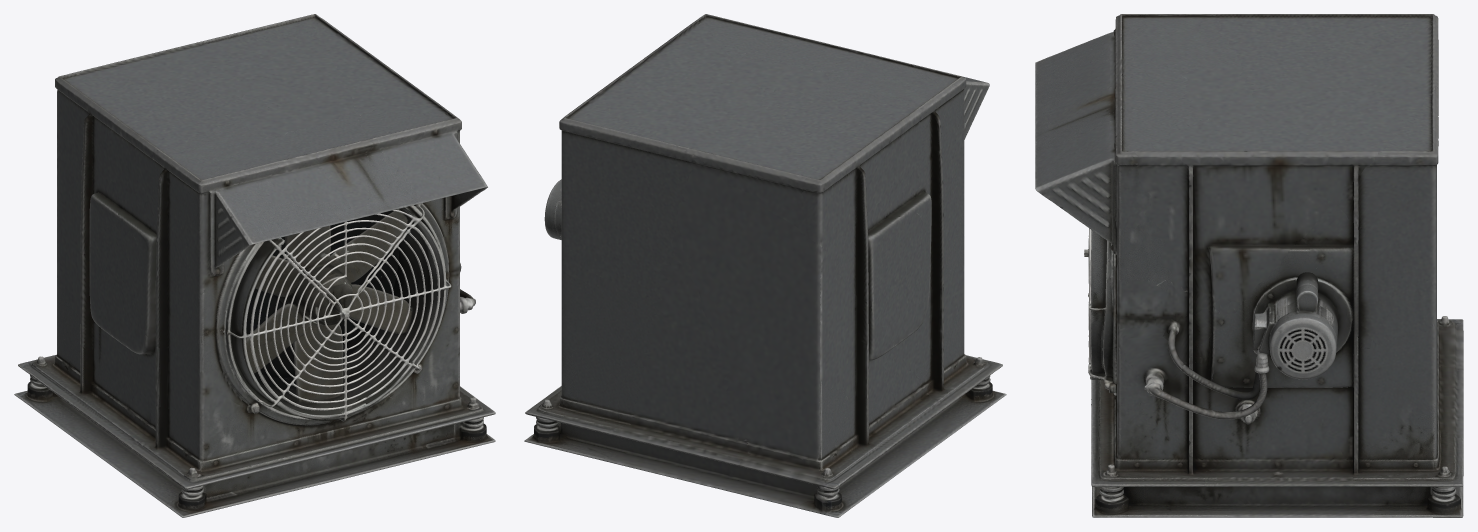
Rendered from industrial_rooftop_exhaust_fan.glb.
The picture shows the model from 3 angles, left to right: view 1: azimuth 30°, elevation 25°; view 2: azimuth 150°, elevation 25°; view 3: azimuth 270°, elevation 25°; orthographic projection. The views are drawn at different scales.
Bounding box in the file's own units: 1.9 × 1.65 × 1.81.
1 material, 1 textured.
